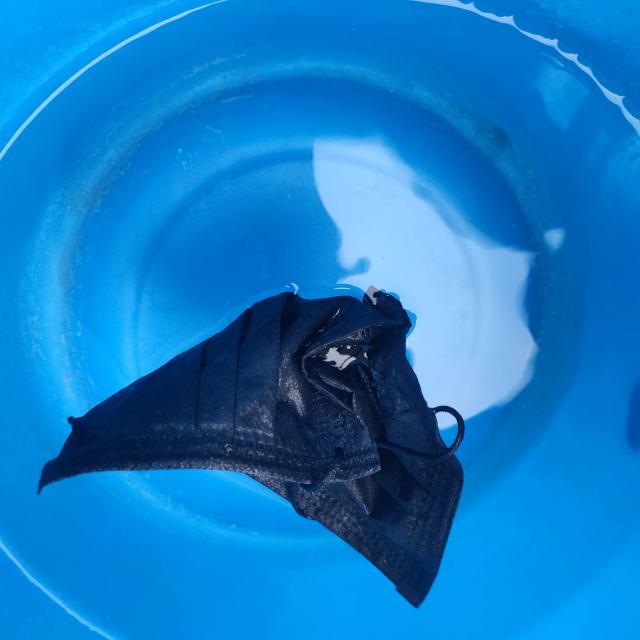mask: (21, 250, 492, 610)
